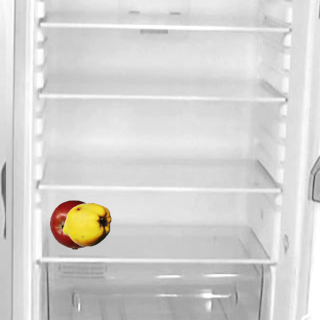Apple Braeburn: (49, 199, 99, 249)
Quince: (61, 199, 111, 249)
